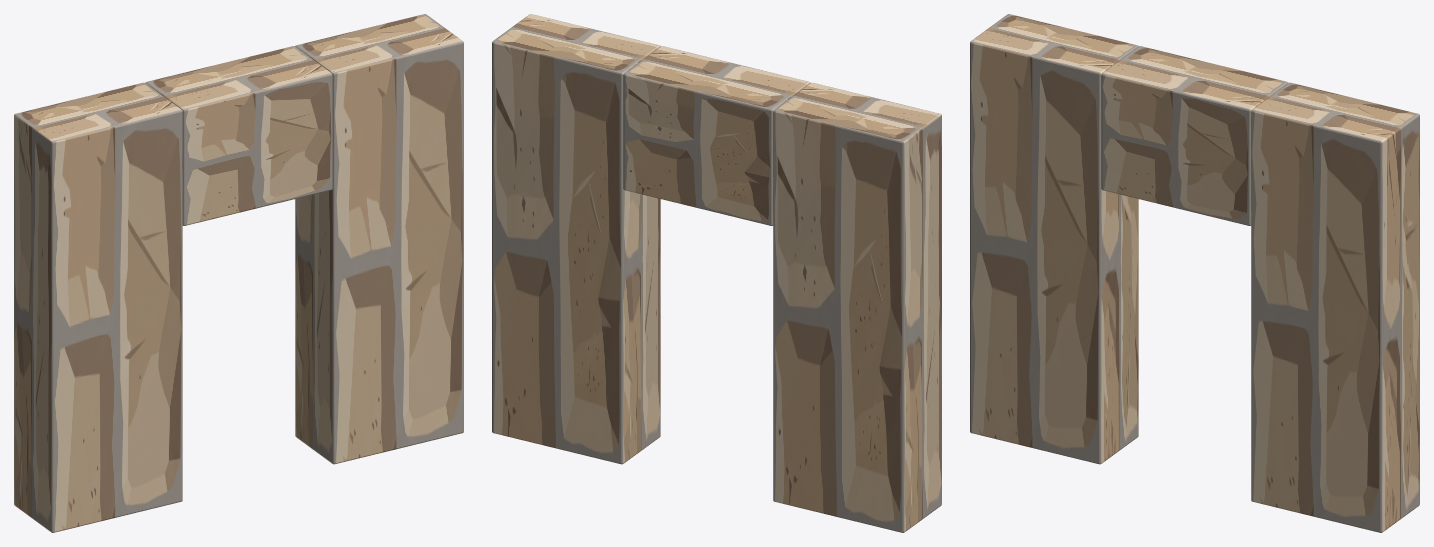
Rendered from greek_house_doorway_LOD2.glb.
3 renders of one model, left to right at view 1: azimuth 30°, elevation 25°; view 2: azimuth 150°, elevation 25°; view 3: azimuth 330°, elevation 25°, orthographic.
Parts seen in each view (by area): view 1: LOD2_Left, LOD2_Right, LOD2_Lintel; view 2: LOD2_Left, LOD2_Right, LOD2_Lintel; view 3: LOD2_Right, LOD2_Left, LOD2_Lintel.
Boxes of the visible parts, left/top/right/bottom form: LOD2_Left: left=14, top=82, right=182, bottom=532; LOD2_Right: left=295, top=14, right=463, bottom=464; LOD2_Lintel: left=145, top=46, right=332, bottom=225; LOD2_Left: left=773, top=82, right=941, bottom=532; LOD2_Right: left=492, top=14, right=660, bottom=464; LOD2_Lintel: left=623, top=46, right=810, bottom=225; LOD2_Right: left=1251, top=82, right=1419, bottom=532; LOD2_Left: left=970, top=14, right=1138, bottom=464; LOD2_Lintel: left=1101, top=46, right=1288, bottom=225.
Bounding box in the file's own units: 3.8 × 3.45 × 0.62.
1 material, 1 textured.
